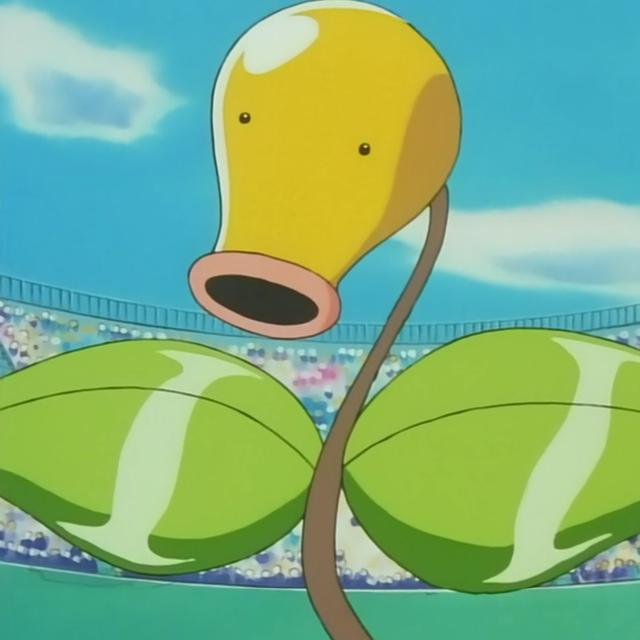Bellsprout: (175, 0, 480, 640)
